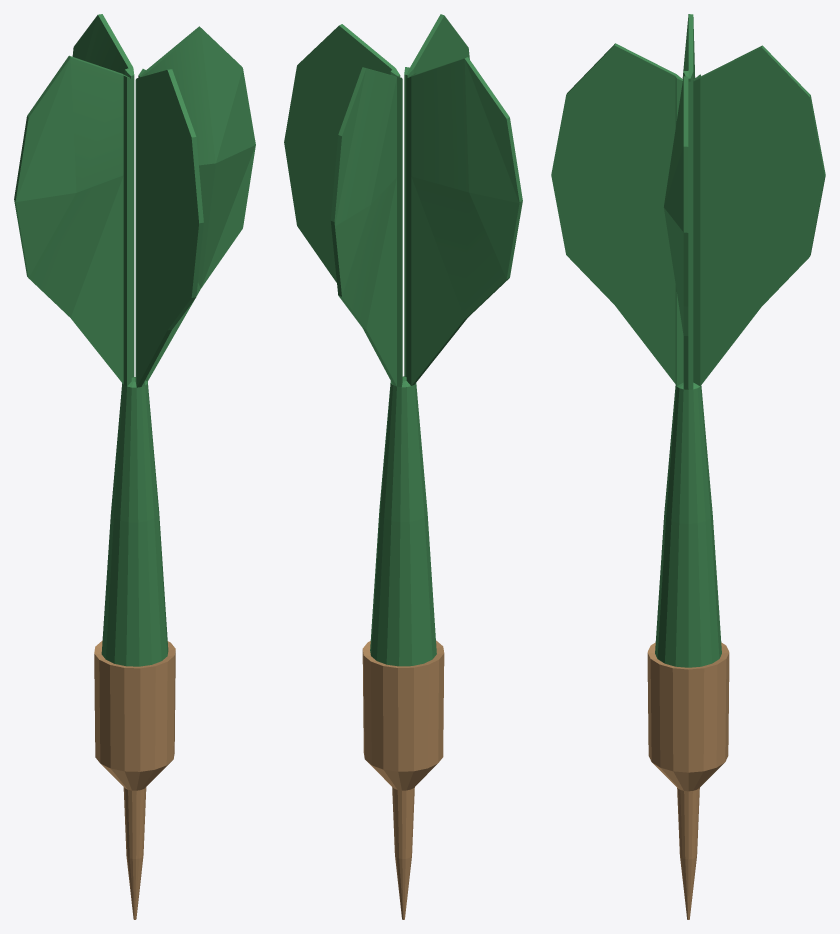
Rendered from FlechetteVerte.fbx.
The picture shows the model from 3 angles, left to right: view 1: azimuth 30°, elevation 25°; view 2: azimuth 150°, elevation 25°; view 3: azimuth 270°, elevation 25°; orthographic projection.
Parts seen in each view (by area): view 1: FlechetteVerte; view 2: FlechetteVerte; view 3: FlechetteVerte.
Boxes of the visible parts, x1,y1,x2,y2 form: FlechetteVerte: (14,14,255,919); FlechetteVerte: (284,14,522,919); FlechetteVerte: (551,14,825,919).
Size of the model in its own units: 3.76 by 13.21 by 3.76.
